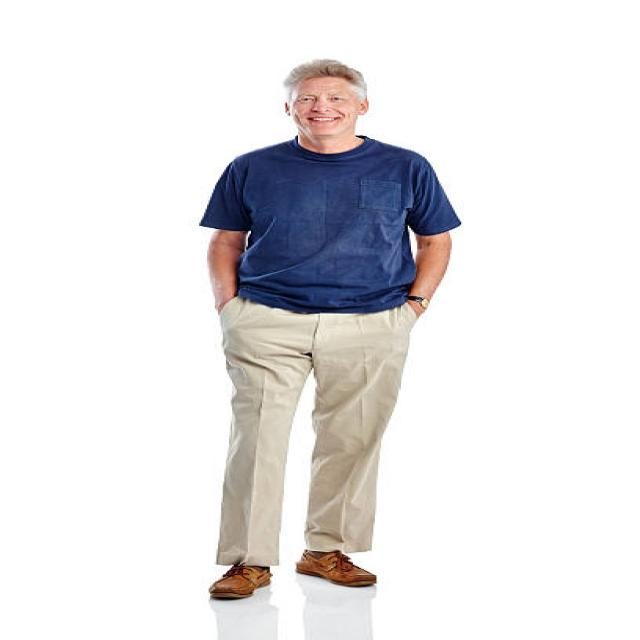Edited images: (184, 50, 449, 619)
